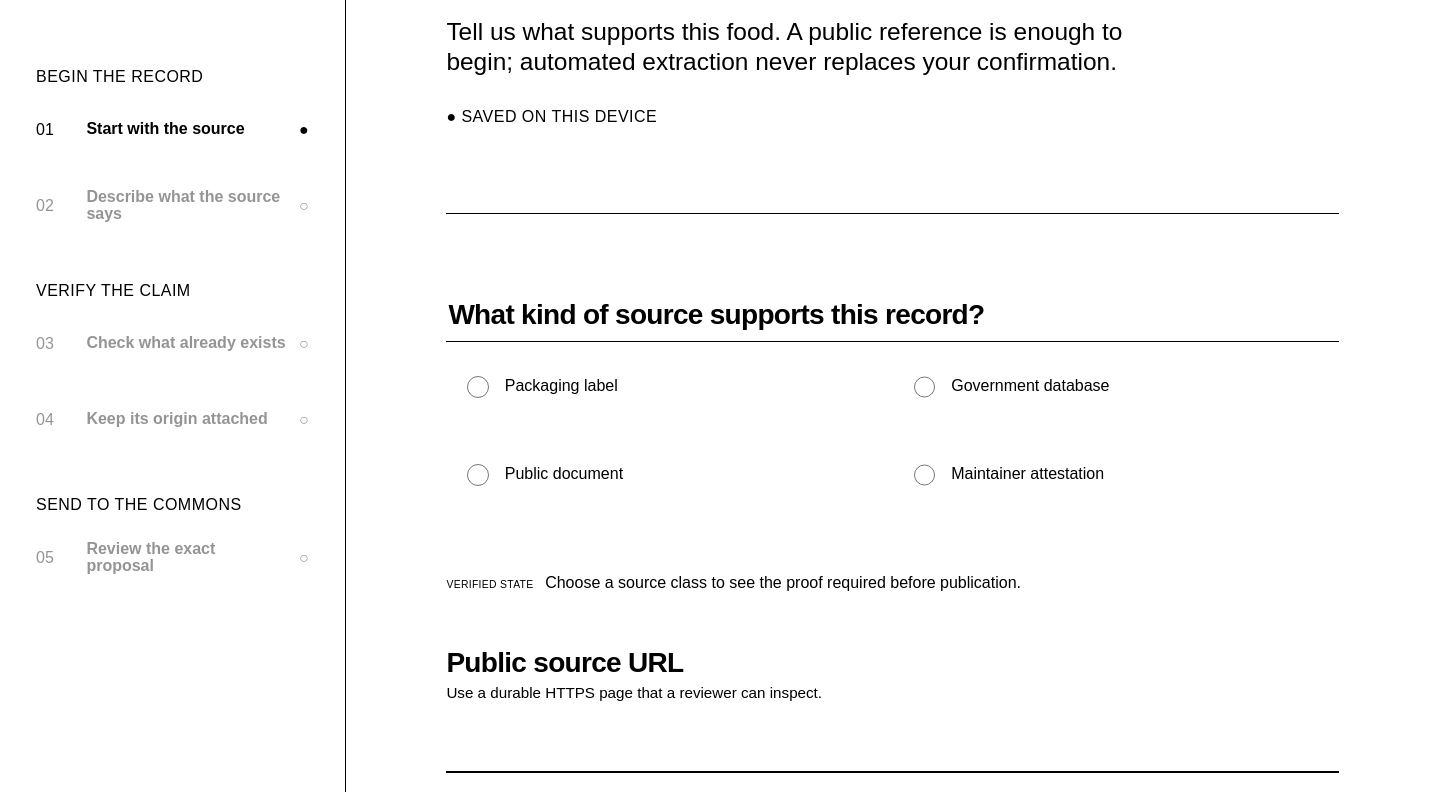
contribution mobile actions › explains the exact public trust state for every evidence class
(page scrolled)
Expected: the text "Choose a source class to see the proof required" is shown, [545,574,1021,590]
Click the radio button labelled "Packaging label": (478, 387) [467,376,489,398]
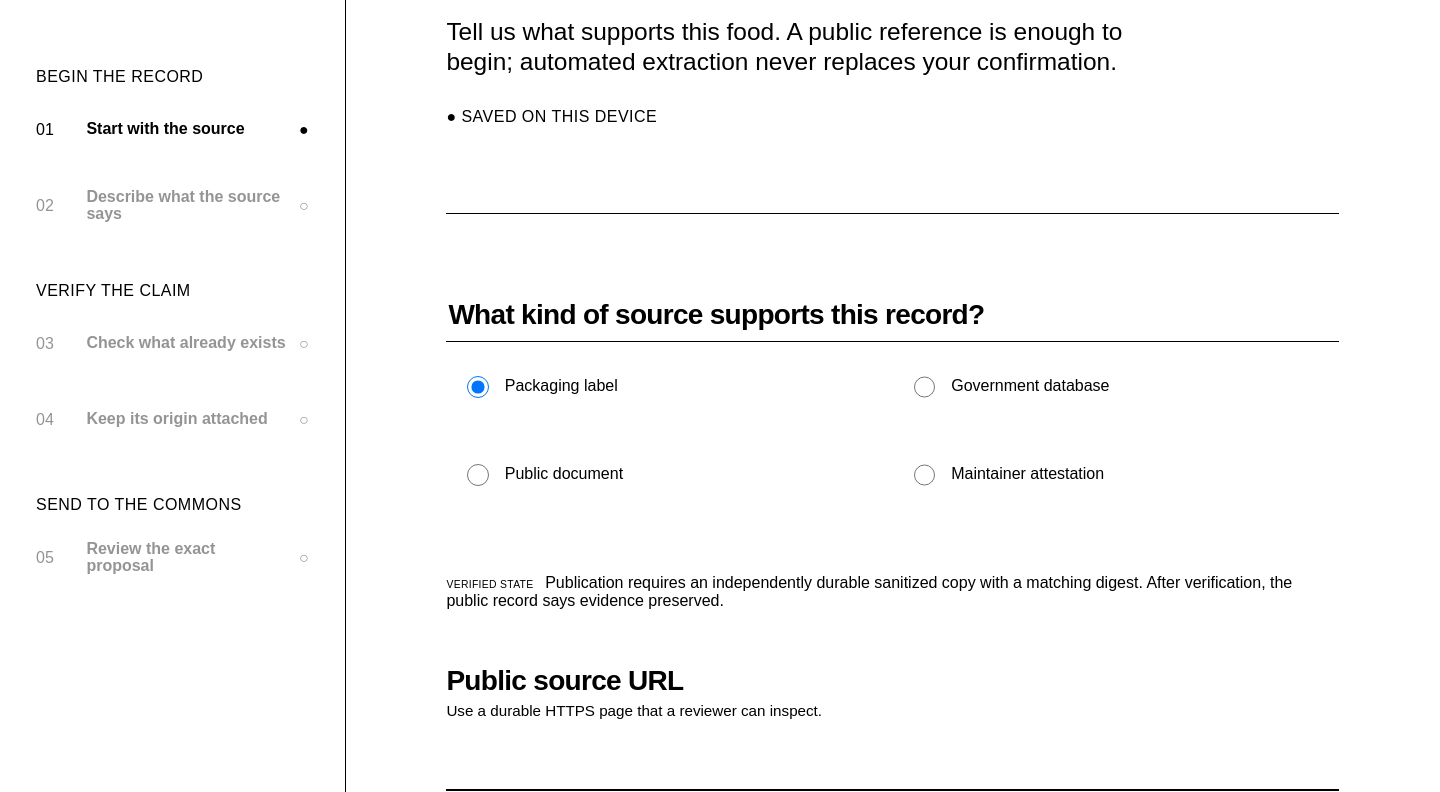
Now the text "independently durable sanitized copy" is shown, box [446,574,1292,608]
Click the radio button labelled "Government database": (925, 387) [914,376,935,398]
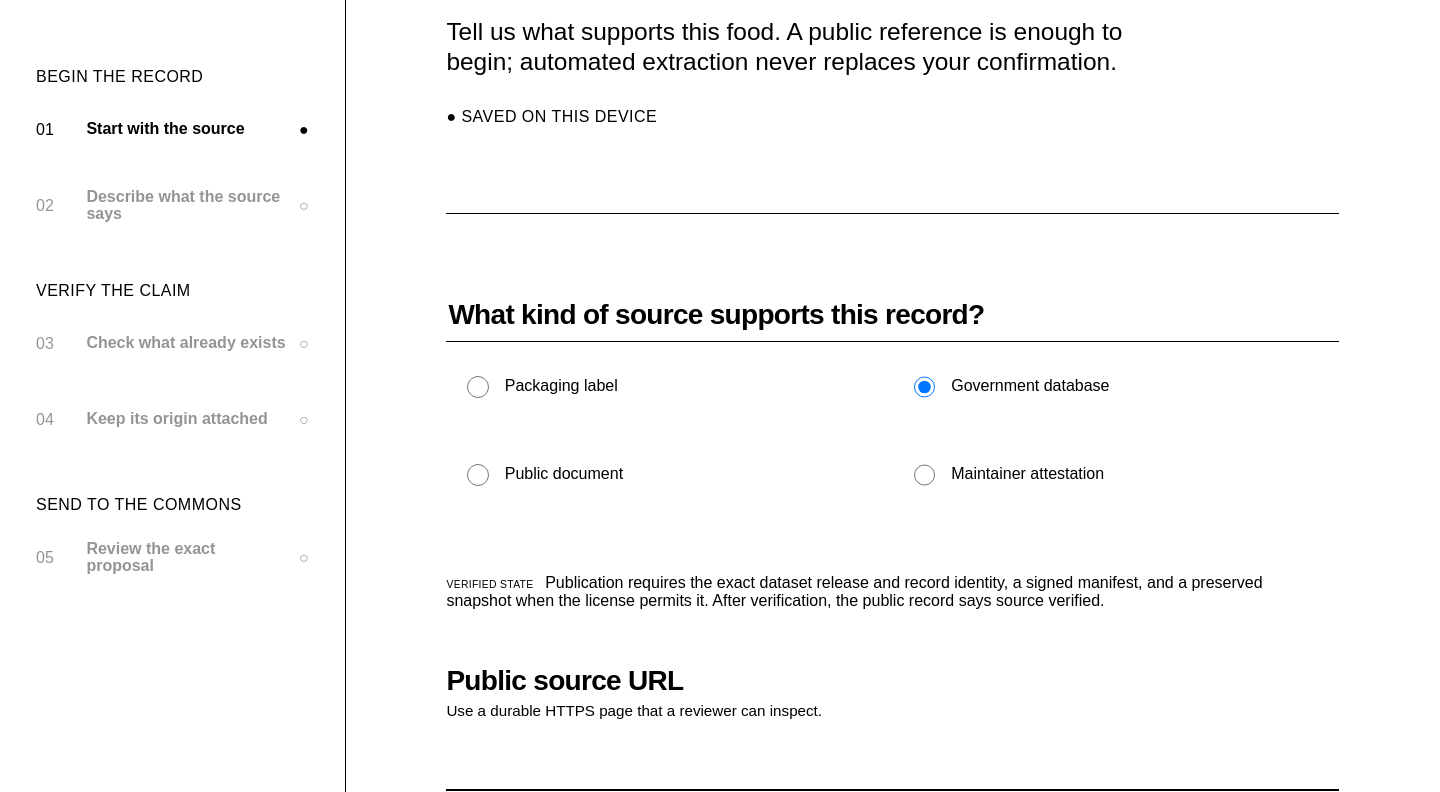
Now the text "exact dataset release and record identity" is shown, box [446,574,1263,608]
Click the radio button labelled "Public document": (478, 475) [467,464,489,486]
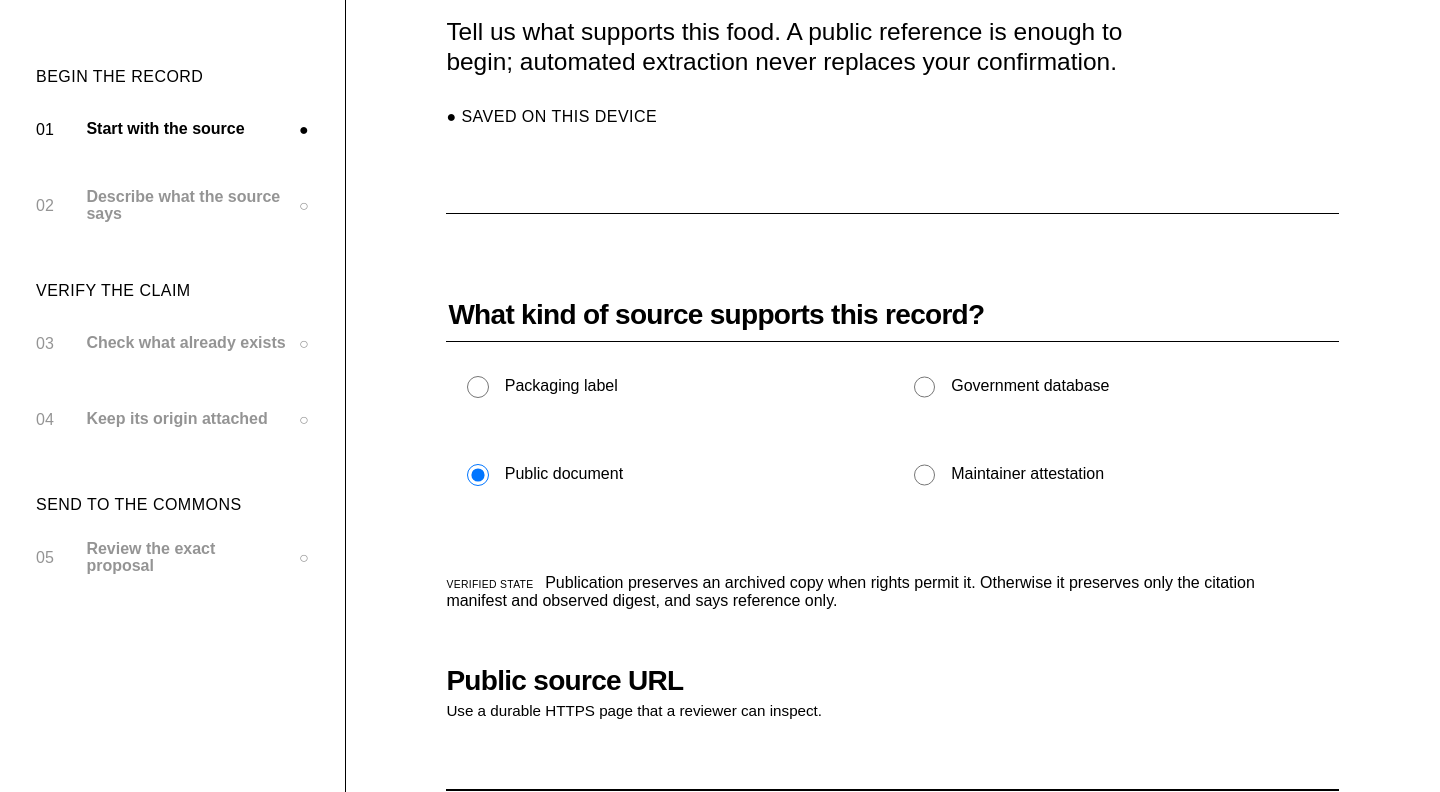
Now the text "otherwise it preserves only the citation manifest" is shown, box [446,574,1255,608]
Click the radio button labelled "Maintainer attestation": (925, 475) [914,464,935,486]
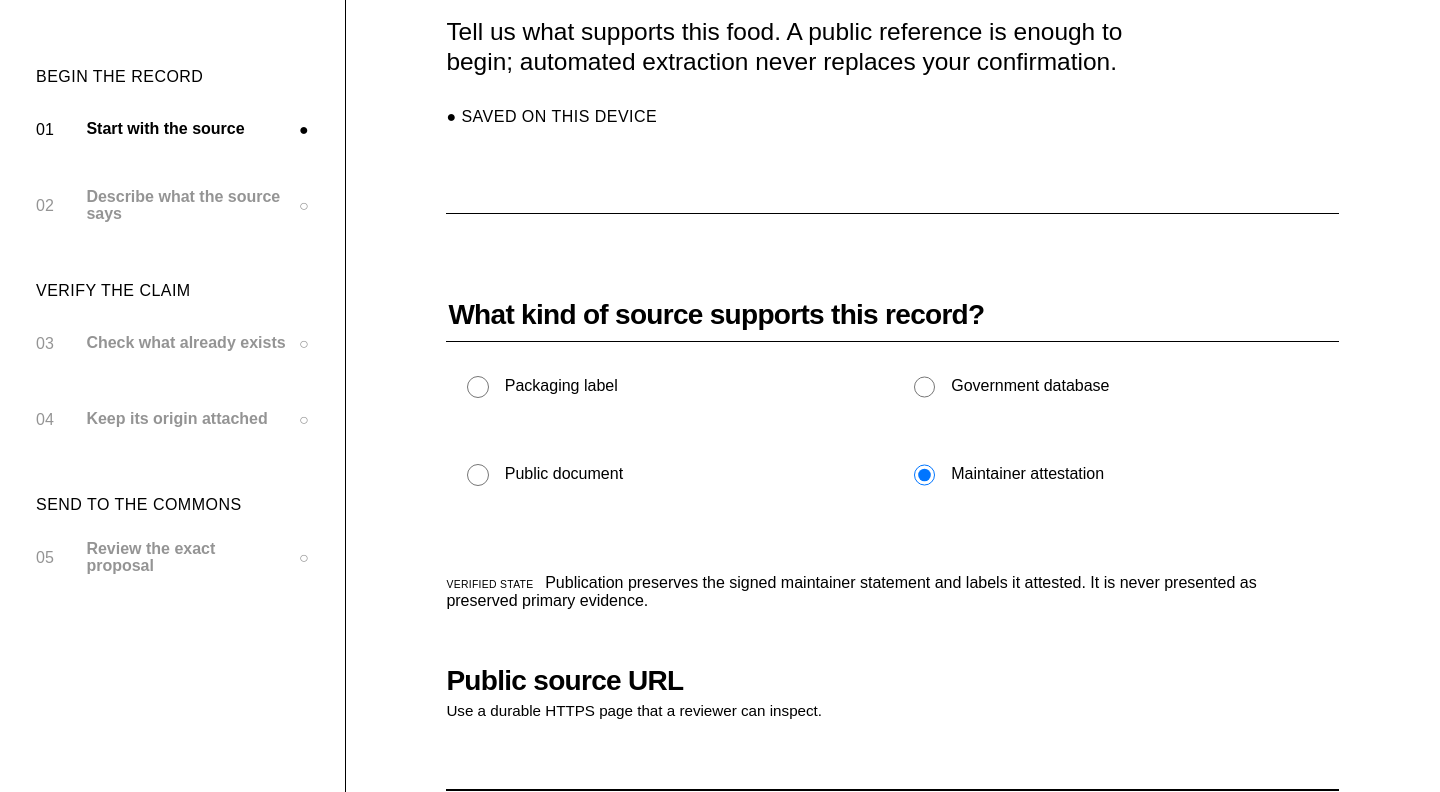
Now the text "never presented as preserved primary evidence" is shown, box [446,574,1257,608]
